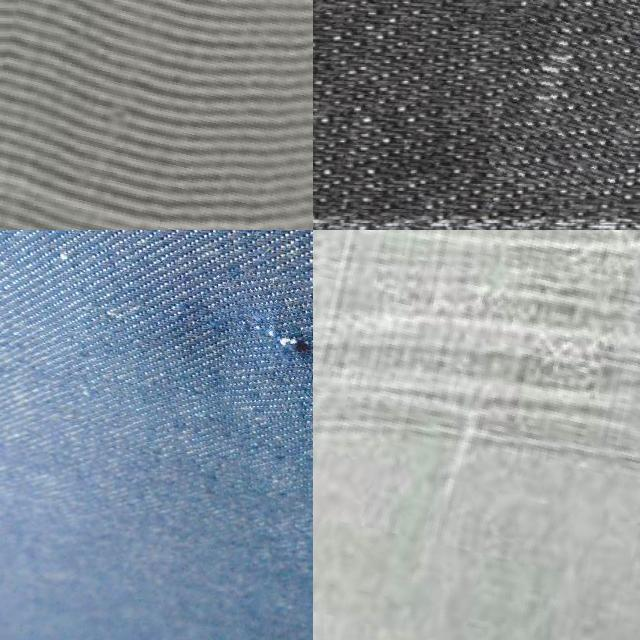Thread_other: (313, 230, 640, 640), (497, 0, 640, 195), (222, 272, 313, 428)
